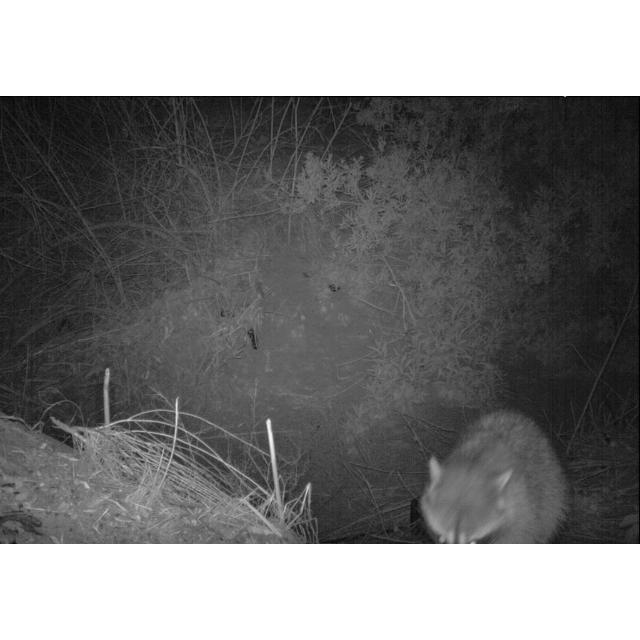animals: (416, 405, 572, 545)
